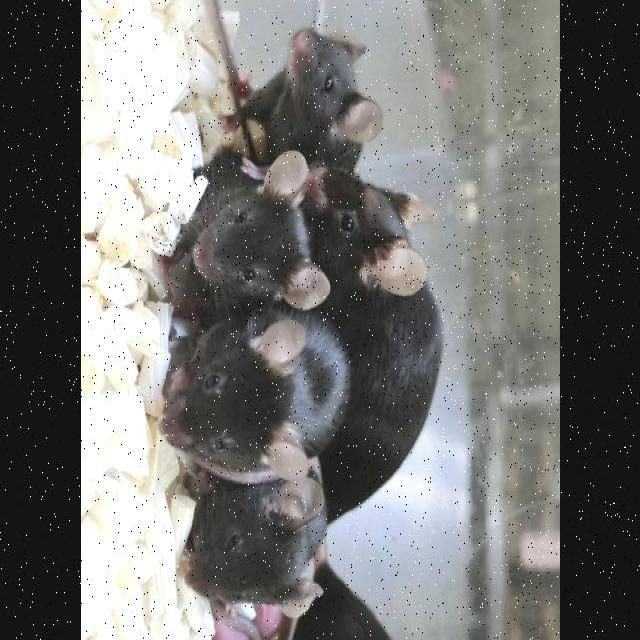rat: (305, 164, 443, 528), (159, 313, 349, 487), (171, 151, 327, 330), (178, 456, 324, 624), (219, 30, 383, 178)
